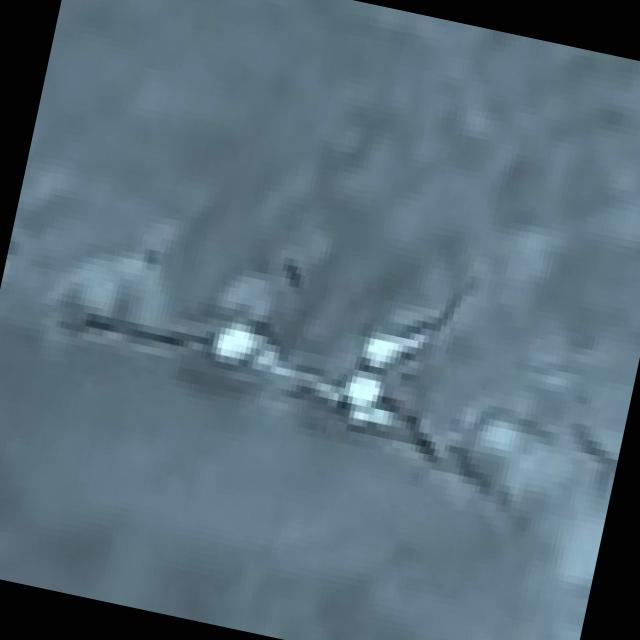crack: (28, 252, 290, 480)
